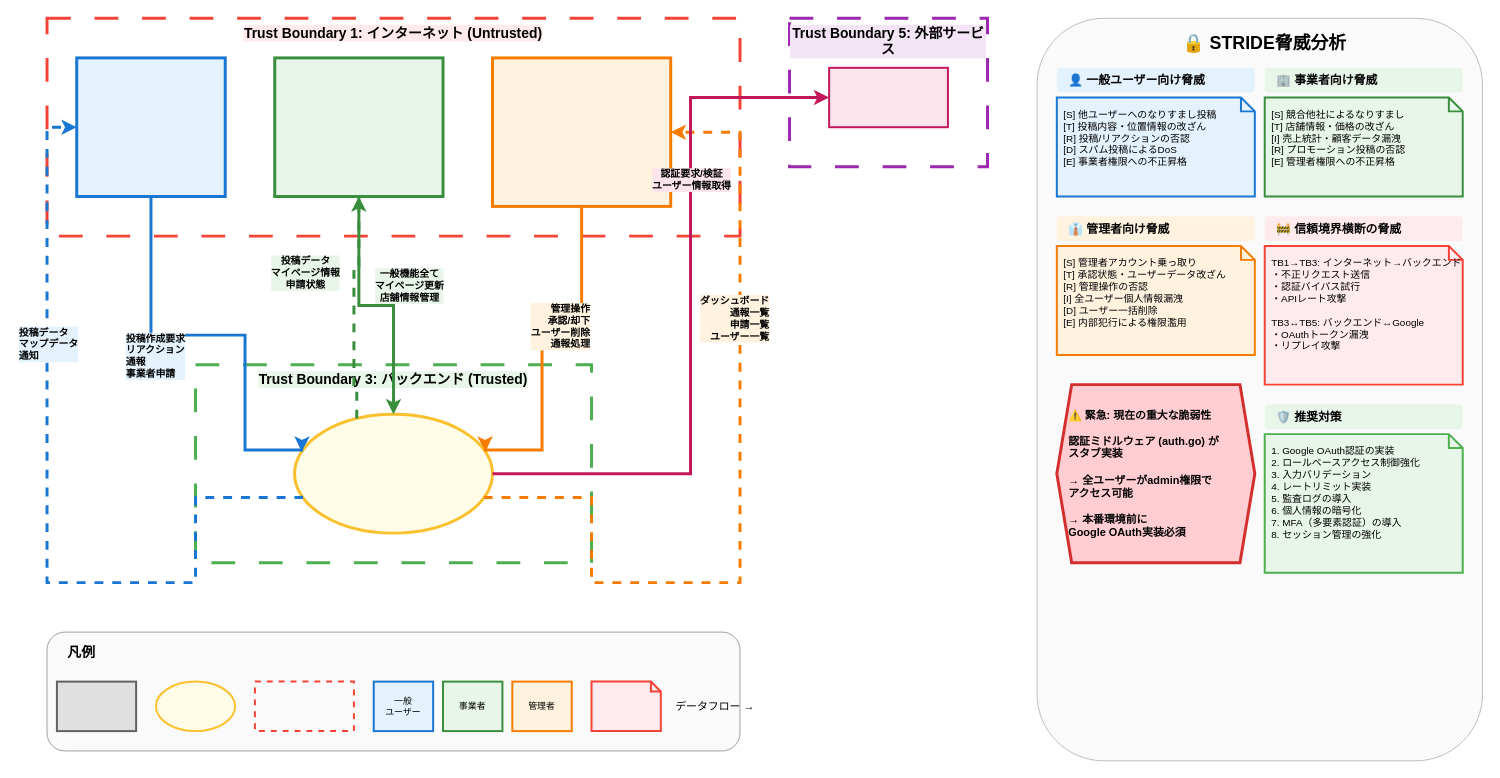
The diagram is 1500 pixels wide and 778 high, and some of its shapes have lost their labels. The shapes that lost their labels are listed below. From the top down, each one's centre as x and y in pixels, then its label:
At (888,97): "🔐 Google OAuth Provider".
At (150,127): "👤 一般ユーザー (User) ・投稿閲覧/作成 ・リアクション送信 ・通報機能 ・事業者申請".
At (358,127): "🏢 事業者 (Business) ・一般ユーザー機能全て ・事業者マイページ ・店舗情報管理 ・プロモーション投稿".
At (581,131): "👔 管理者 (Admin) ・ダッシュボード表示 ・ユーザー管理/削除 ・通報処理 ・事業者申請承認/却下 ・問い合わせ対応".
At (393,473): "0 こじゃんとやまっぷ システム".
At (96,706): "外部 エンティティ".
At (195,706): "プロセス".
At (303,706): "信頼境界 (Trust Boundary)".
At (625,706): "STRIDE脅威".
